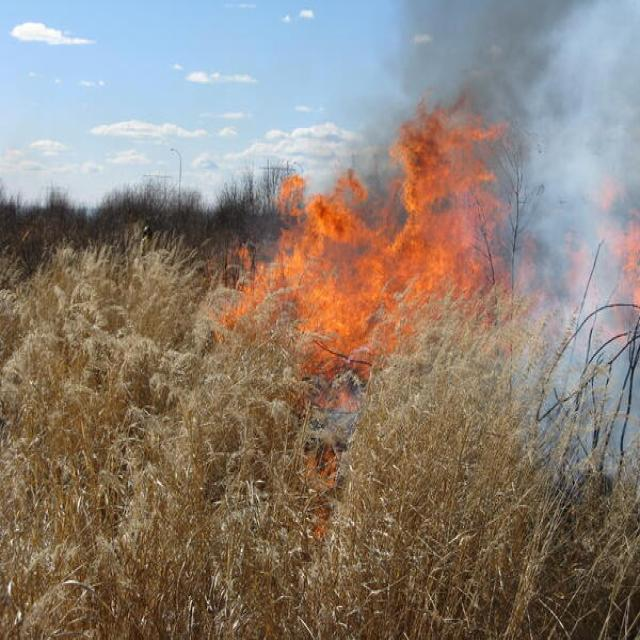Fire: (192, 87, 640, 393)
